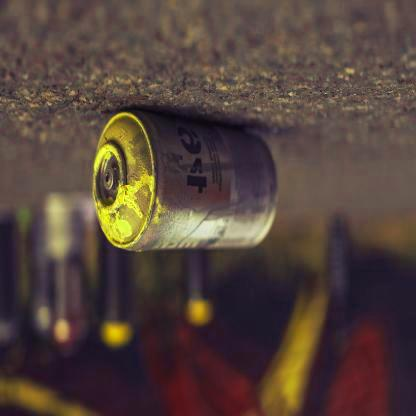Metal: (92, 102, 280, 260)
